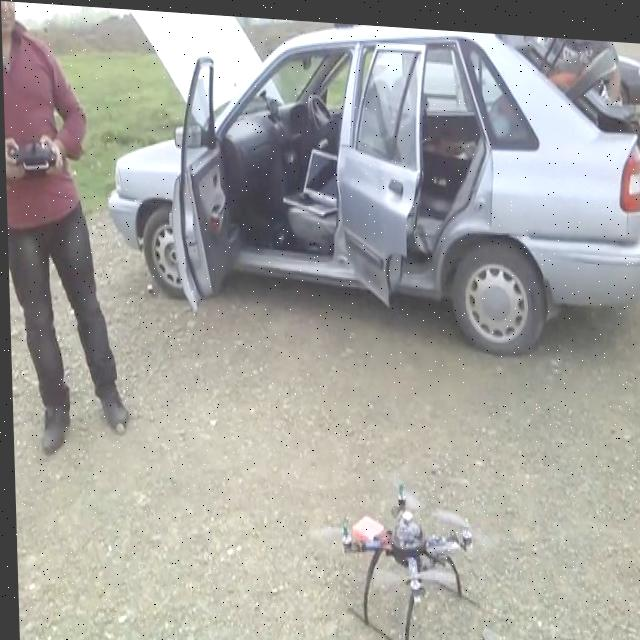drone: (305, 457, 484, 640)
